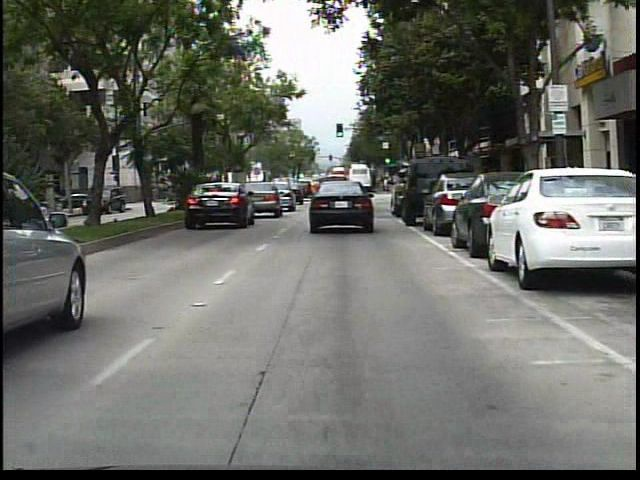person: (560, 156, 583, 218)
